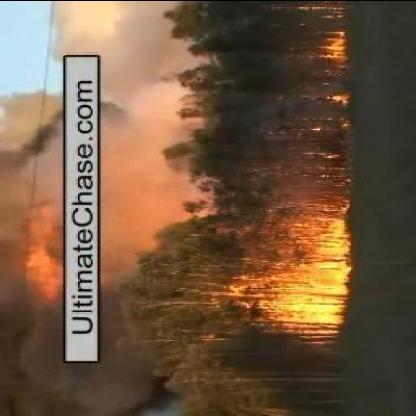-: (3, 86, 62, 314), (101, 69, 167, 252)
foggia-v2-map80-epoch100 - v1 4323: (270, 220, 348, 334)
